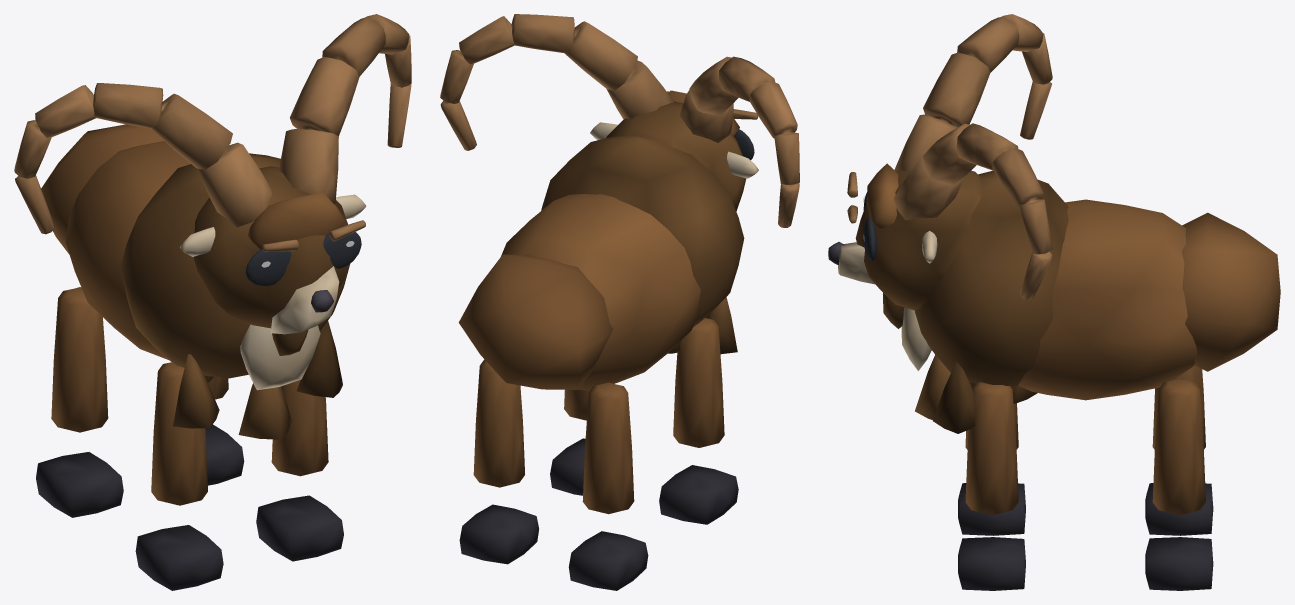
File: critter_craghorn.glb
3 renders of one model, left to right at view 1: azimuth 30°, elevation 25°; view 2: azimuth 150°, elevation 25°; view 3: azimuth 270°, elevation 25°, orthographic. The views are drawn at different scales.
Parts seen in each view (by area): view 1: critter_craghorn_part_1, critter_craghorn_part_0, critter_craghorn_part_4, critter_craghorn_part_2, critter_craghorn_part_3, critter_craghorn_part_5; view 2: critter_craghorn_part_0, critter_craghorn_part_1, critter_craghorn_part_4, critter_craghorn_part_2, critter_craghorn_part_5, critter_craghorn_part_3; view 3: critter_craghorn_part_0, critter_craghorn_part_1, critter_craghorn_part_5, critter_craghorn_part_3, critter_craghorn_part_4, critter_craghorn_part_2.
Part boxes in pixels (bbox=[...]): critter_craghorn_part_1: bbox=[14, 14, 411, 355]; critter_craghorn_part_0: bbox=[41, 124, 350, 439]; critter_craghorn_part_4: bbox=[36, 287, 123, 517]; critter_craghorn_part_2: bbox=[135, 362, 223, 590]; critter_craghorn_part_3: bbox=[256, 380, 343, 561]; critter_craghorn_part_5: bbox=[205, 377, 244, 485]; critter_craghorn_part_0: bbox=[458, 136, 744, 390]; critter_craghorn_part_1: bbox=[440, 14, 799, 227]; critter_craghorn_part_4: bbox=[568, 382, 648, 590]; critter_craghorn_part_2: bbox=[659, 318, 738, 524]; critter_craghorn_part_5: bbox=[459, 359, 538, 564]; critter_craghorn_part_3: bbox=[550, 383, 614, 495]; critter_craghorn_part_0: bbox=[901, 170, 1280, 433]; critter_craghorn_part_1: bbox=[828, 14, 1052, 328]; critter_craghorn_part_5: bbox=[1145, 378, 1213, 590]; critter_craghorn_part_3: bbox=[958, 382, 1025, 590]; critter_craghorn_part_4: bbox=[1145, 365, 1213, 535]; critter_craghorn_part_2: bbox=[958, 381, 1025, 535].
Size of the model in its own units: 1.44 by 1.75 by 1.52.
